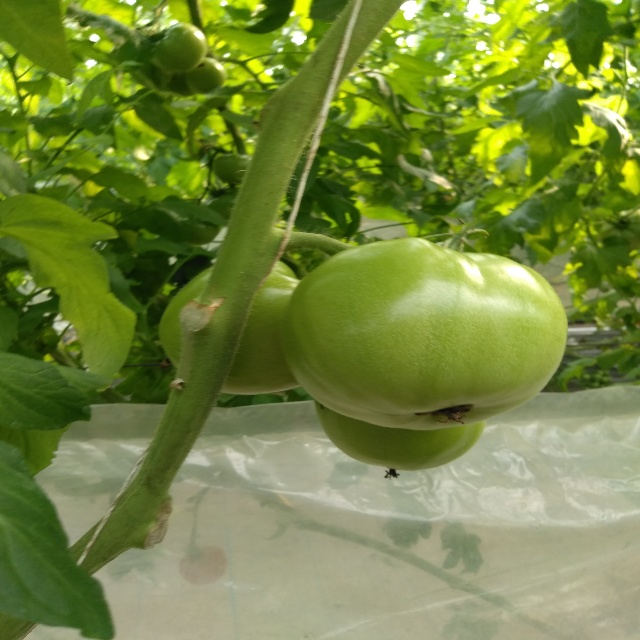b_green: (278, 237, 570, 432), (160, 257, 300, 395), (315, 400, 487, 470), (149, 22, 207, 74)
